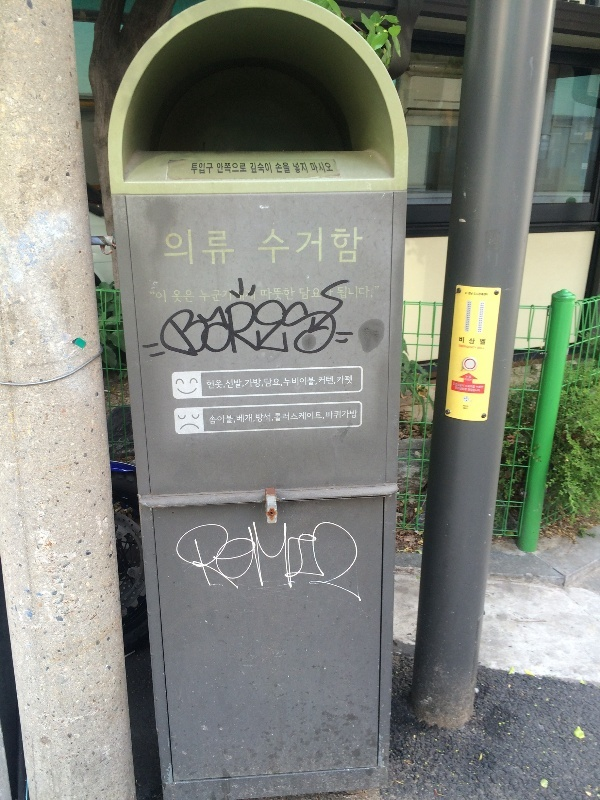text: (161, 274, 176, 358), (177, 274, 192, 358), (193, 274, 208, 358), (209, 274, 224, 358), (225, 274, 240, 358), (241, 274, 256, 358), (257, 274, 272, 358), (273, 274, 288, 358), (289, 274, 304, 358), (305, 274, 320, 358), (321, 274, 336, 358), (337, 274, 352, 358), (177, 516, 192, 600), (193, 516, 208, 600), (209, 516, 224, 600), (225, 516, 240, 600), (241, 516, 256, 600), (257, 516, 272, 600), (273, 516, 288, 600), (289, 516, 304, 600), (305, 516, 320, 600), (321, 516, 336, 600), (337, 516, 352, 600), (353, 516, 361, 600), (177, 229, 192, 269), (193, 229, 208, 269), (209, 229, 224, 269), (273, 225, 288, 264), (289, 225, 304, 264), (305, 225, 320, 264), (321, 225, 336, 264), (337, 225, 352, 264), (225, 229, 238, 269), (481, 303, 496, 332), (353, 225, 364, 264), (262, 225, 272, 264), (167, 229, 176, 269), (468, 302, 480, 332), (177, 290, 192, 304), (273, 288, 288, 301), (257, 163, 272, 175), (305, 288, 320, 300), (337, 287, 352, 299), (353, 287, 368, 299), (193, 163, 208, 174), (225, 163, 240, 174), (225, 290, 240, 301), (289, 411, 304, 422), (305, 411, 320, 422), (275, 162, 288, 174), (209, 290, 222, 302), (241, 290, 255, 301), (465, 336, 480, 346), (289, 376, 304, 386), (257, 413, 272, 423), (292, 162, 304, 174), (209, 380, 225, 389), (261, 288, 272, 301), (275, 411, 288, 422), (321, 376, 336, 385), (337, 375, 352, 384), (337, 410, 352, 419), (369, 287, 380, 299), (321, 163, 334, 173), (226, 379, 240, 388), (305, 376, 317, 386), (151, 290, 160, 303), (210, 416, 224, 424), (241, 414, 255, 422), (310, 163, 320, 173), (246, 379, 256, 389), (200, 290, 208, 302), (289, 288, 296, 301), (273, 378, 283, 387), (326, 410, 336, 419), (225, 416, 236, 424), (159, 274, 160, 358), (353, 274, 354, 358), (175, 516, 176, 600), (161, 290, 167, 303), (217, 163, 224, 174), (250, 163, 256, 175), (264, 378, 272, 387), (257, 379, 264, 389), (241, 163, 247, 174), (329, 288, 336, 297), (465, 345, 476, 350), (481, 336, 486, 346), (305, 162, 309, 174), (300, 288, 304, 300), (465, 378, 480, 381), (353, 410, 358, 419), (209, 163, 213, 174), (321, 411, 325, 422), (466, 376, 480, 379), (466, 385, 480, 388), (173, 290, 176, 304), (460, 336, 464, 346), (455, 386, 464, 390), (468, 389, 480, 392), (453, 384, 464, 387), (285, 376, 288, 386), (193, 290, 195, 304), (241, 379, 244, 388), (459, 345, 464, 350), (289, 162, 291, 174), (237, 414, 240, 422), (476, 386, 480, 389), (321, 288, 322, 300), (223, 290, 224, 301), (273, 413, 274, 423), (481, 386, 484, 389), (207, 380, 208, 389), (319, 376, 320, 385), (465, 386, 467, 390), (481, 347, 484, 349), (478, 347, 480, 349)
